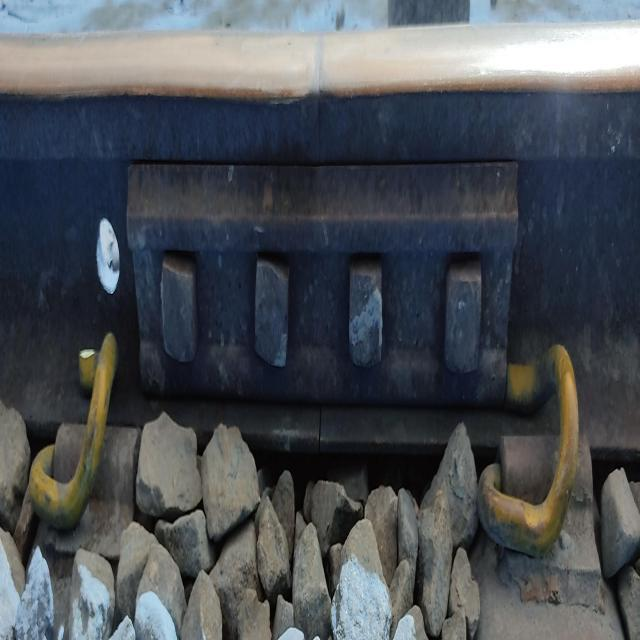Good Fasteners: (477, 345, 602, 577), (25, 339, 141, 561)
Good Joint: (125, 153, 518, 420)
